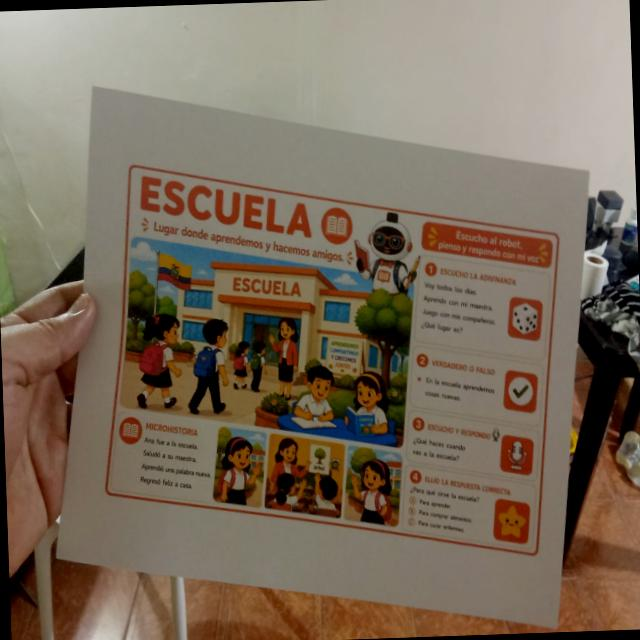escuela: (89, 144, 576, 576)
